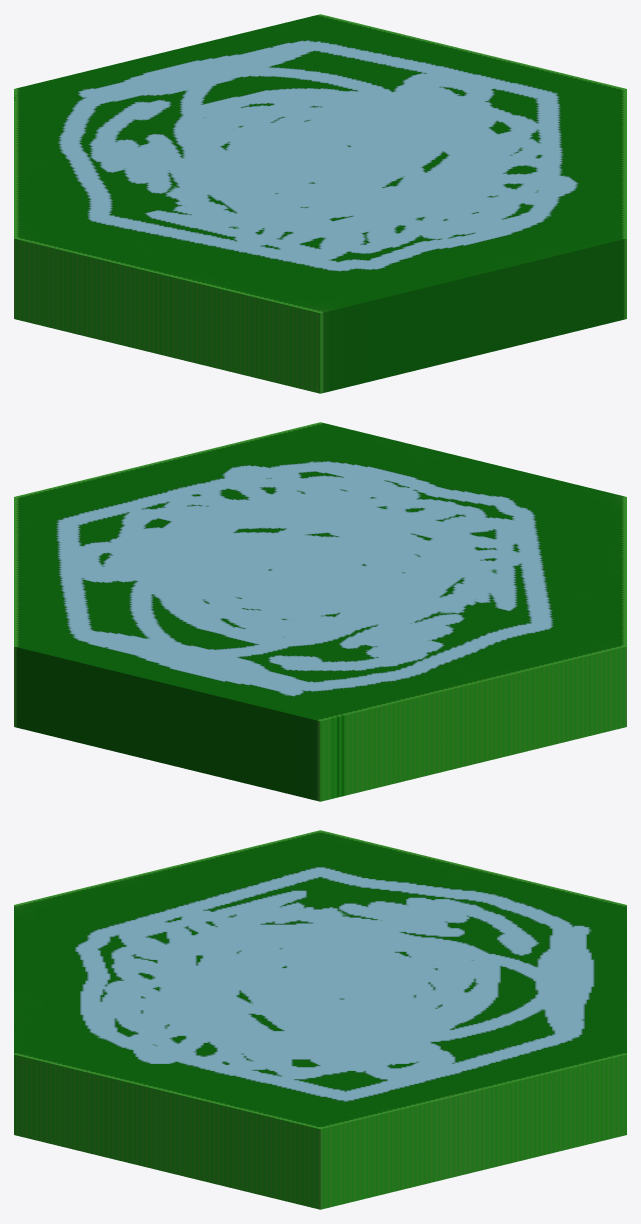
Rendered from irrigation_hex.obj.
The picture shows the model from 3 angles, top to bottom: view 1: azimuth 30°, elevation 25°; view 2: azimuth 150°, elevation 25°; view 3: azimuth 270°, elevation 25°; orthographic projection.
Visible parts, largest first — view 1: pCylinder1; view 2: pCylinder1; view 3: pCylinder1.
Part boxes in pixels (left/top/right/bottom): pCylinder1: left=14, top=14, right=626, bottom=393; pCylinder1: left=14, top=422, right=626, bottom=801; pCylinder1: left=14, top=830, right=626, bottom=1209.
Size of the model in its own units: 6.92 by 0.8684 by 6.
